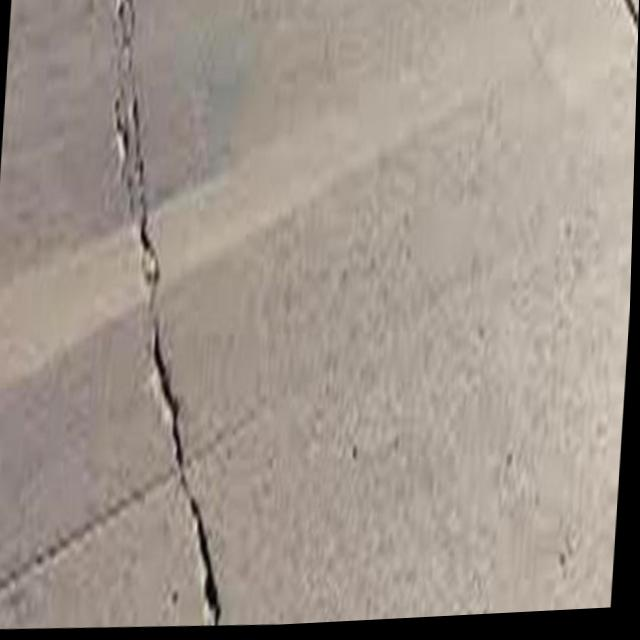Crack: (38, 0, 314, 628)
